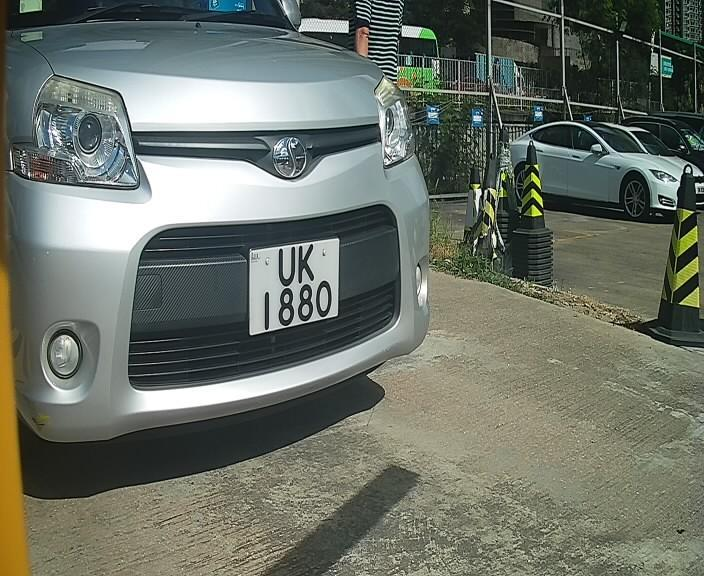License Plate: (246, 232, 343, 345)
